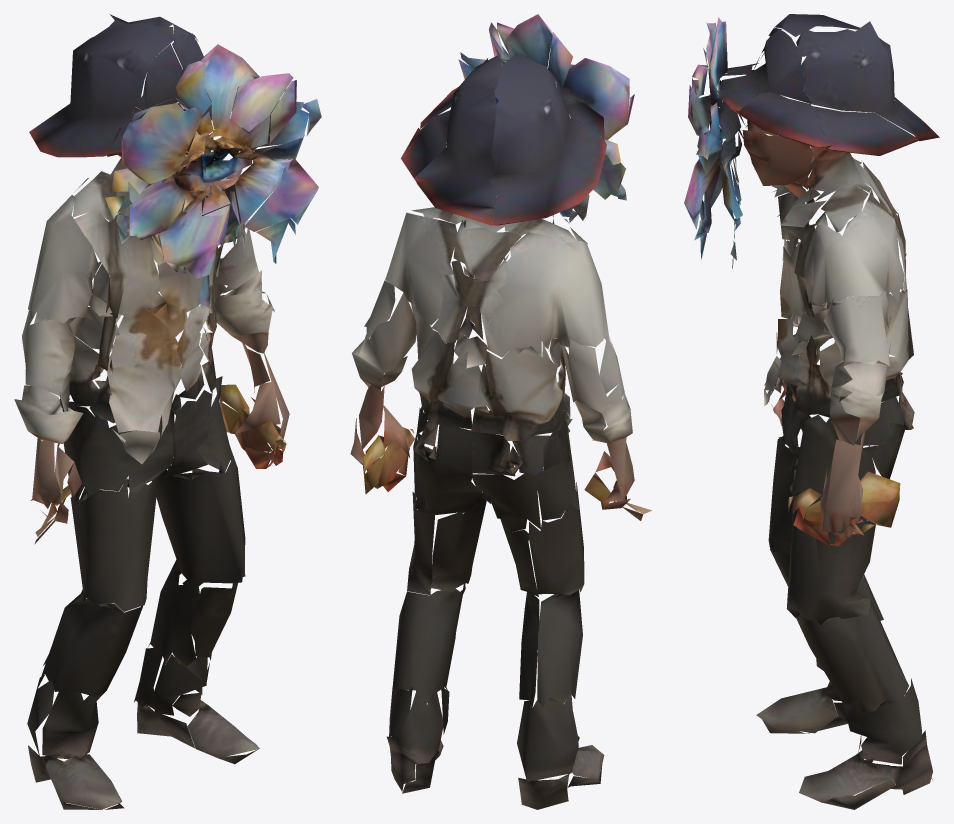
The model's file is crowd_oscar_full.glb.
The picture shows the model from 3 angles, left to right: view 1: azimuth 30°, elevation 25°; view 2: azimuth 150°, elevation 25°; view 3: azimuth 270°, elevation 25°; orthographic projection. The views are drawn at different scales.
Visible parts, largest first — view 1: tripo_node_c9209fbc-5ba6-4d06-9652-62d416d54b07; view 2: tripo_node_c9209fbc-5ba6-4d06-9652-62d416d54b07; view 3: tripo_node_c9209fbc-5ba6-4d06-9652-62d416d54b07.
Boxes of the visible parts, x1=… form: tripo_node_c9209fbc-5ba6-4d06-9652-62d416d54b07: x1=14, y1=14, x2=321, y2=809; tripo_node_c9209fbc-5ba6-4d06-9652-62d416d54b07: x1=350, y1=14, x2=651, y2=809; tripo_node_c9209fbc-5ba6-4d06-9652-62d416d54b07: x1=684, y1=14, x2=939, y2=809.
Size of the model in its own units: 0.3867 by 1 by 0.3089.
Materials: 1 (1 with a texture image).
